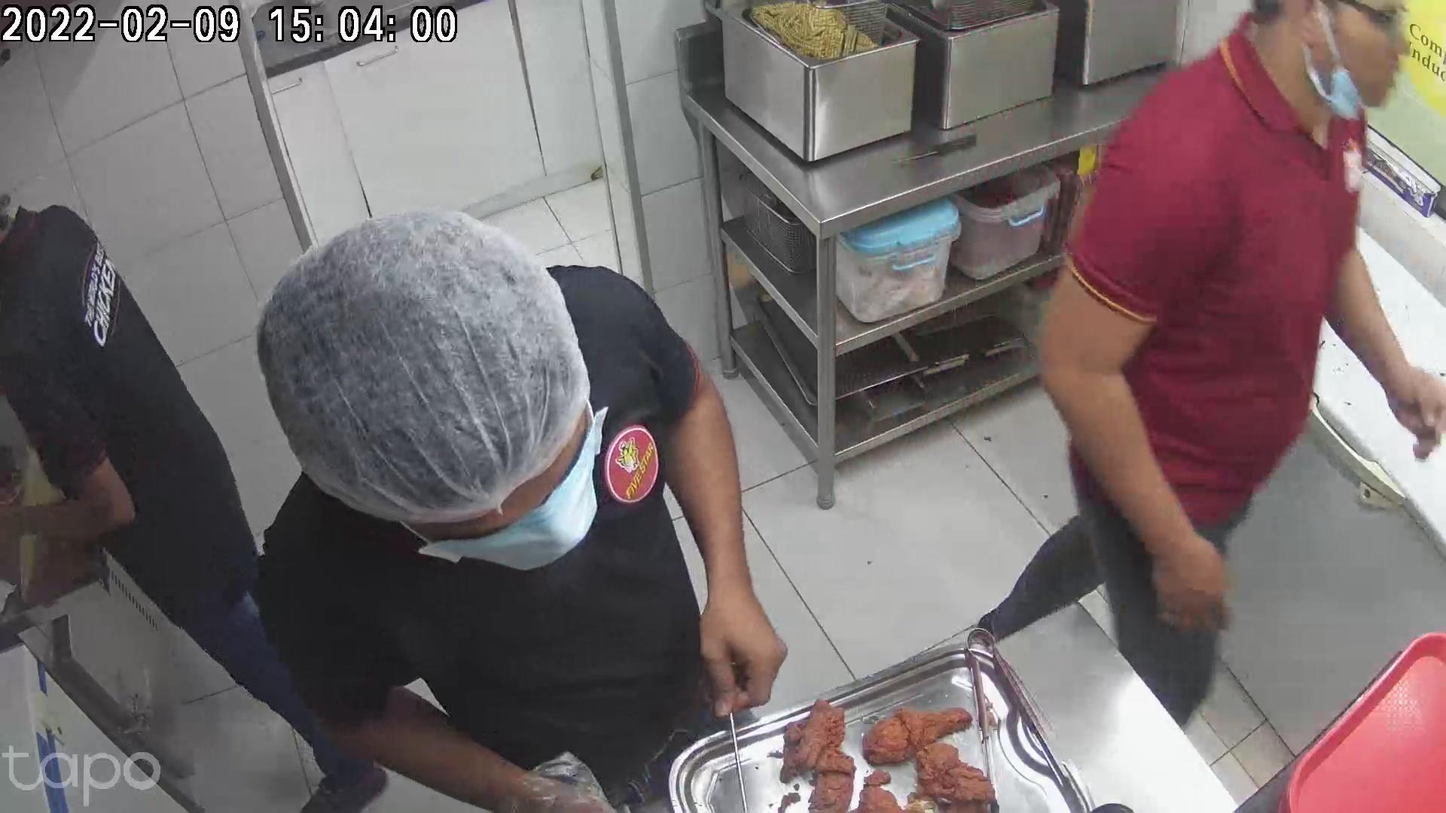no_gloves: (703, 557, 775, 711)
